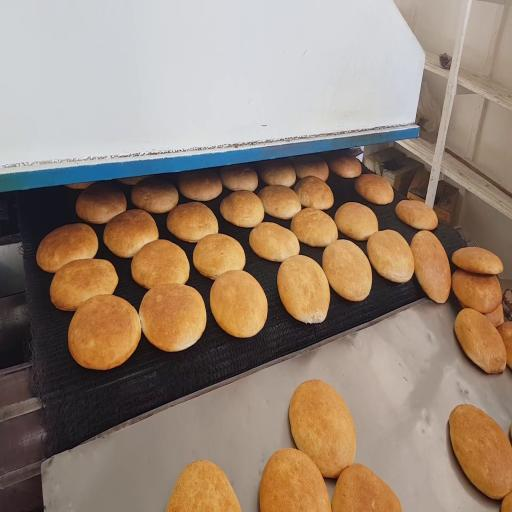bread: (289, 380, 355, 477), (449, 405, 511, 499), (68, 295, 141, 370), (139, 284, 206, 351), (260, 448, 331, 511), (210, 271, 267, 338), (166, 461, 240, 511), (277, 255, 330, 323), (50, 259, 118, 310), (332, 464, 402, 511), (455, 309, 506, 373), (36, 224, 98, 273), (323, 240, 371, 301), (411, 231, 451, 303), (131, 240, 189, 289), (104, 210, 158, 257), (367, 230, 414, 283), (193, 234, 245, 279), (452, 269, 502, 313), (76, 183, 126, 224), (167, 202, 218, 242), (249, 222, 299, 262), (291, 208, 337, 246), (131, 177, 178, 213), (335, 202, 378, 240), (220, 191, 264, 227), (258, 185, 301, 219), (452, 247, 503, 274), (178, 170, 222, 201), (294, 176, 333, 210), (396, 200, 438, 230), (355, 174, 393, 204), (219, 164, 258, 191), (260, 160, 296, 186), (293, 155, 328, 181), (327, 152, 361, 178), (497, 321, 512, 368), (484, 304, 504, 327), (485, 304, 504, 327), (118, 175, 150, 185), (65, 182, 93, 190), (501, 494, 511, 511)
